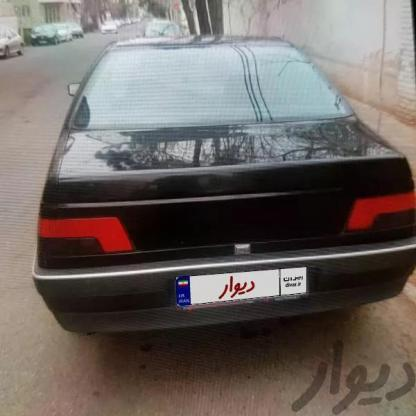Car: (0, 28, 416, 359), (0, 30, 28, 55), (32, 20, 59, 42), (62, 19, 82, 36)
